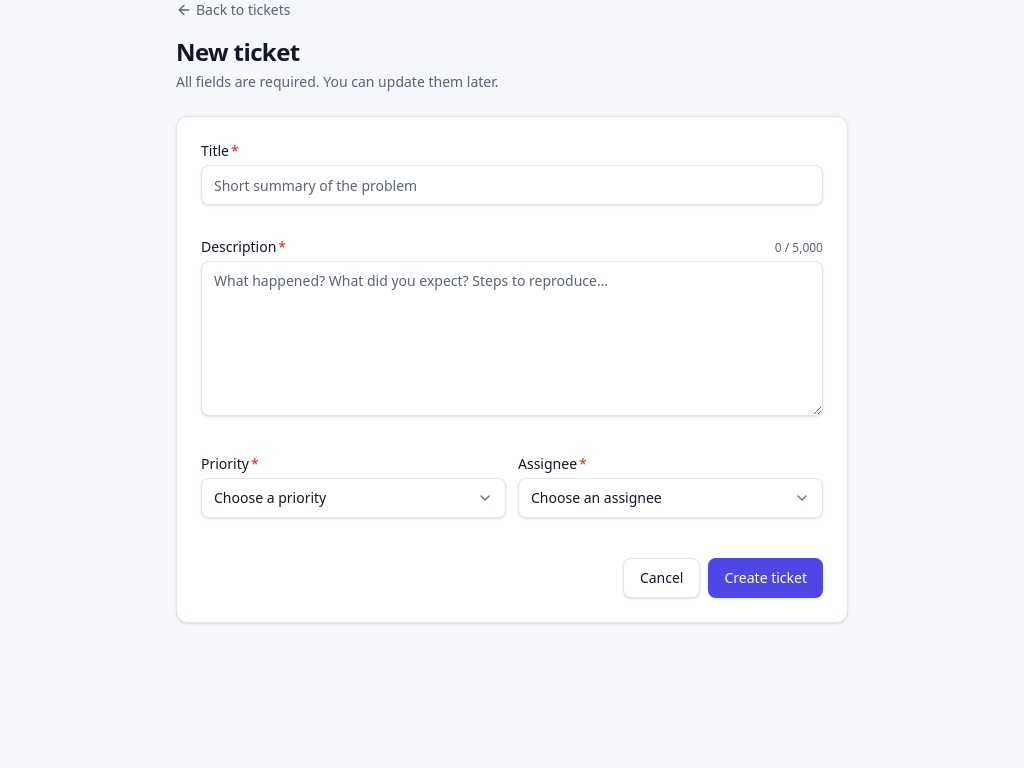
Test: Create ticket › keeps the input and offers Retry when the server is unreachable
The image size is (1024, 768).
Type "Printer jam" into the field labelled "Title*" at (512,185), box 201,165 -> 823,205
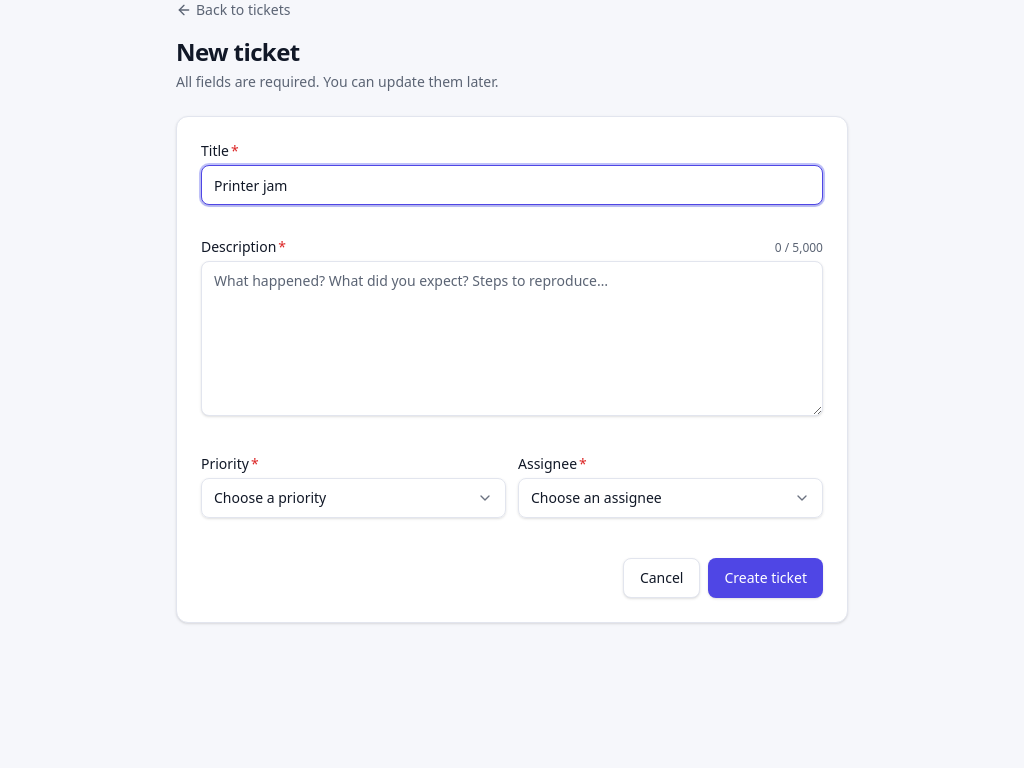
Type "Paper stuck in tray two" into the text box labelled "Description*" at (512,338), box 201,261 -> 823,416
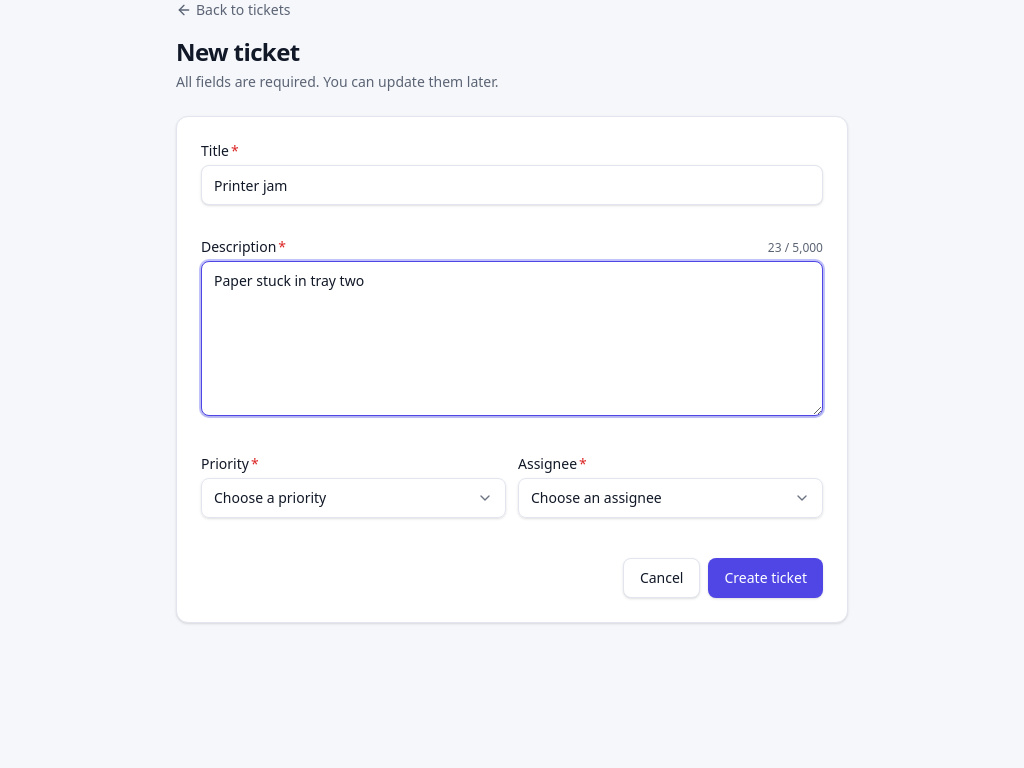
Select "High" in the dropdown labelled "Priority*" at (354,498), box 201,478 -> 506,518
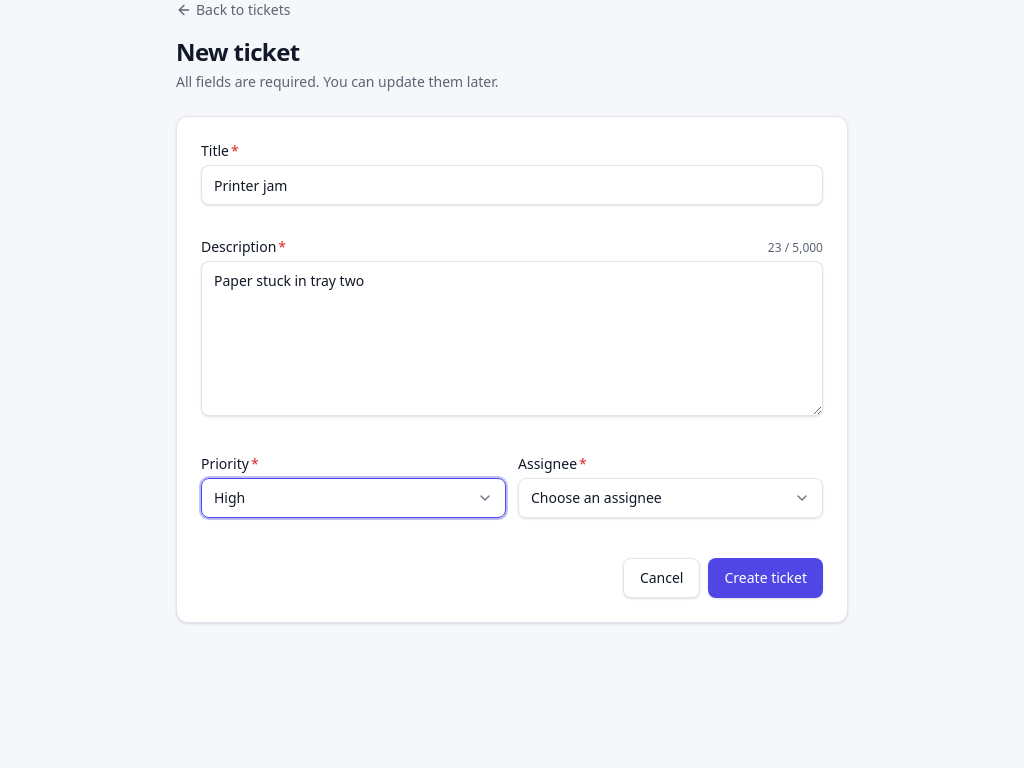
Select "Bob Singh" in the dropdown labelled "Assignee*" at (670,498), box 518,478 -> 823,518
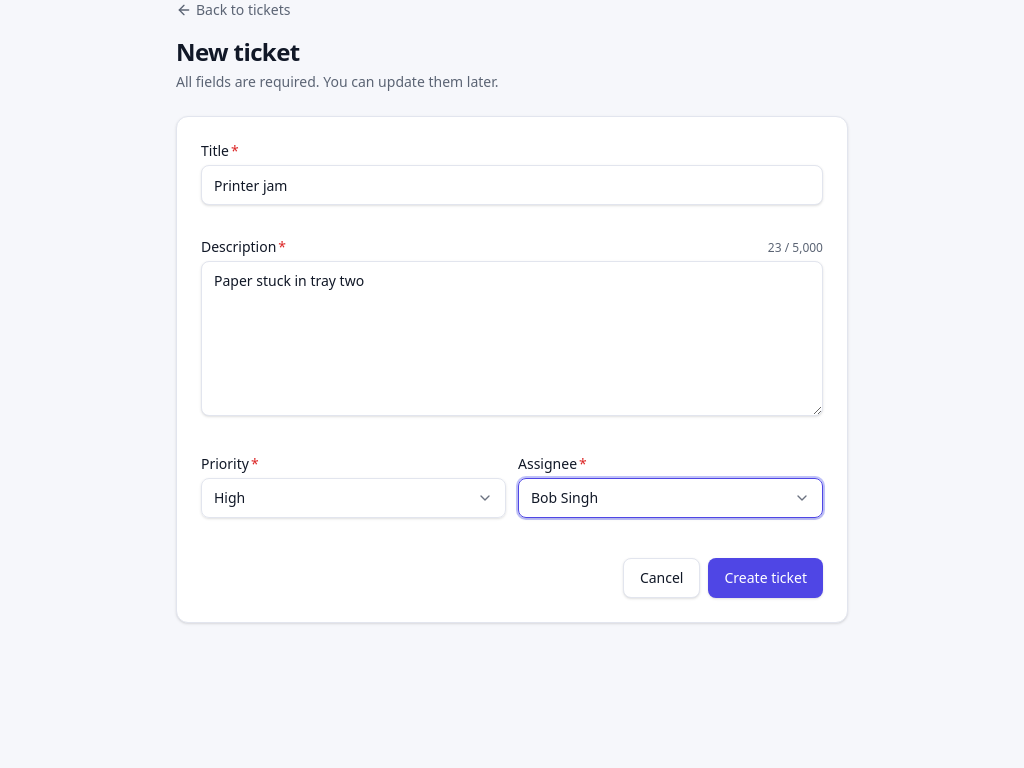
Click the button "Create ticket" at (766,578), box 708,558 -> 823,598
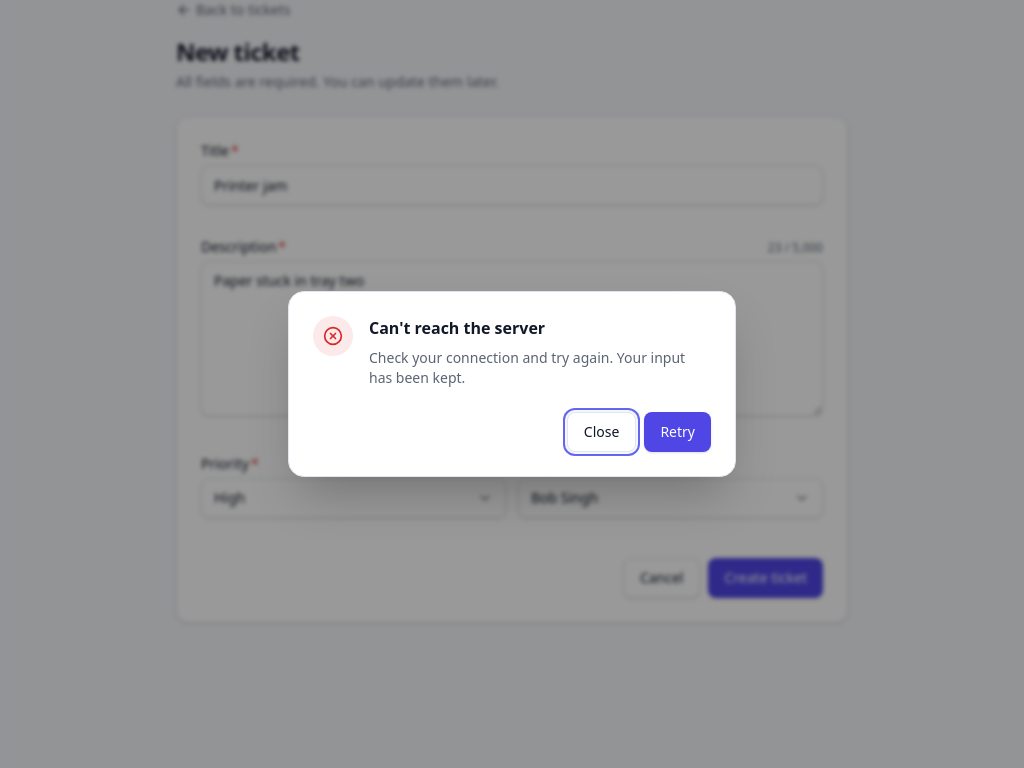
Check: the button "Retry" is shown, box 644,412 -> 711,452
